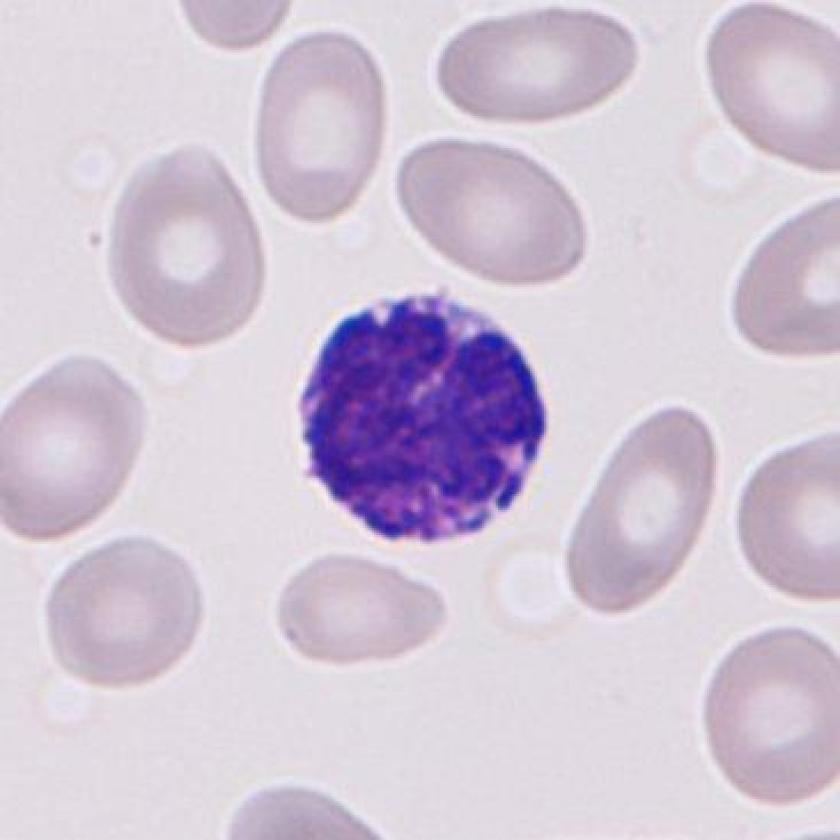basophil: (293, 290, 559, 559)
